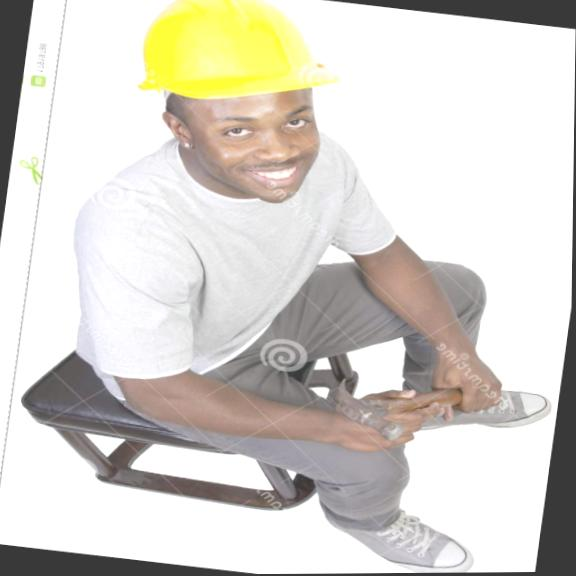no_safety_vest: (51, 116, 400, 427)
